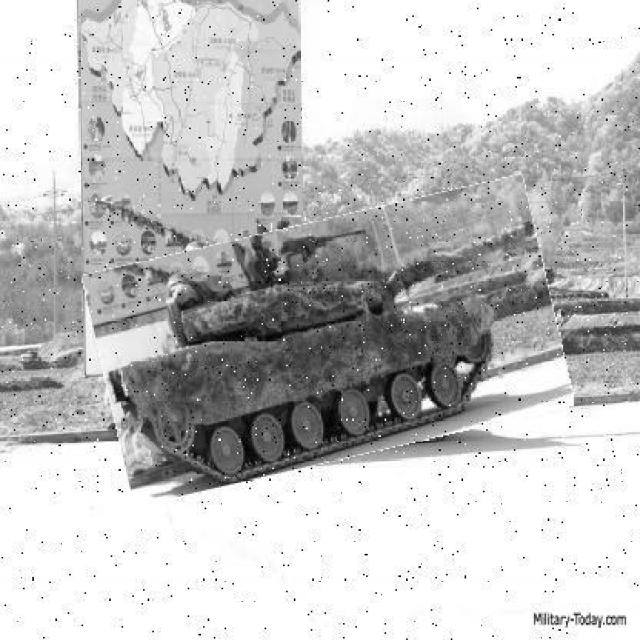Person: (272, 218, 306, 276)
Tank: (93, 200, 567, 484)
